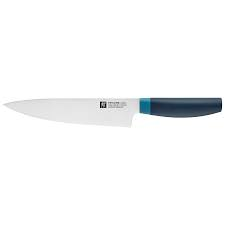knife: (2, 96, 225, 129)
